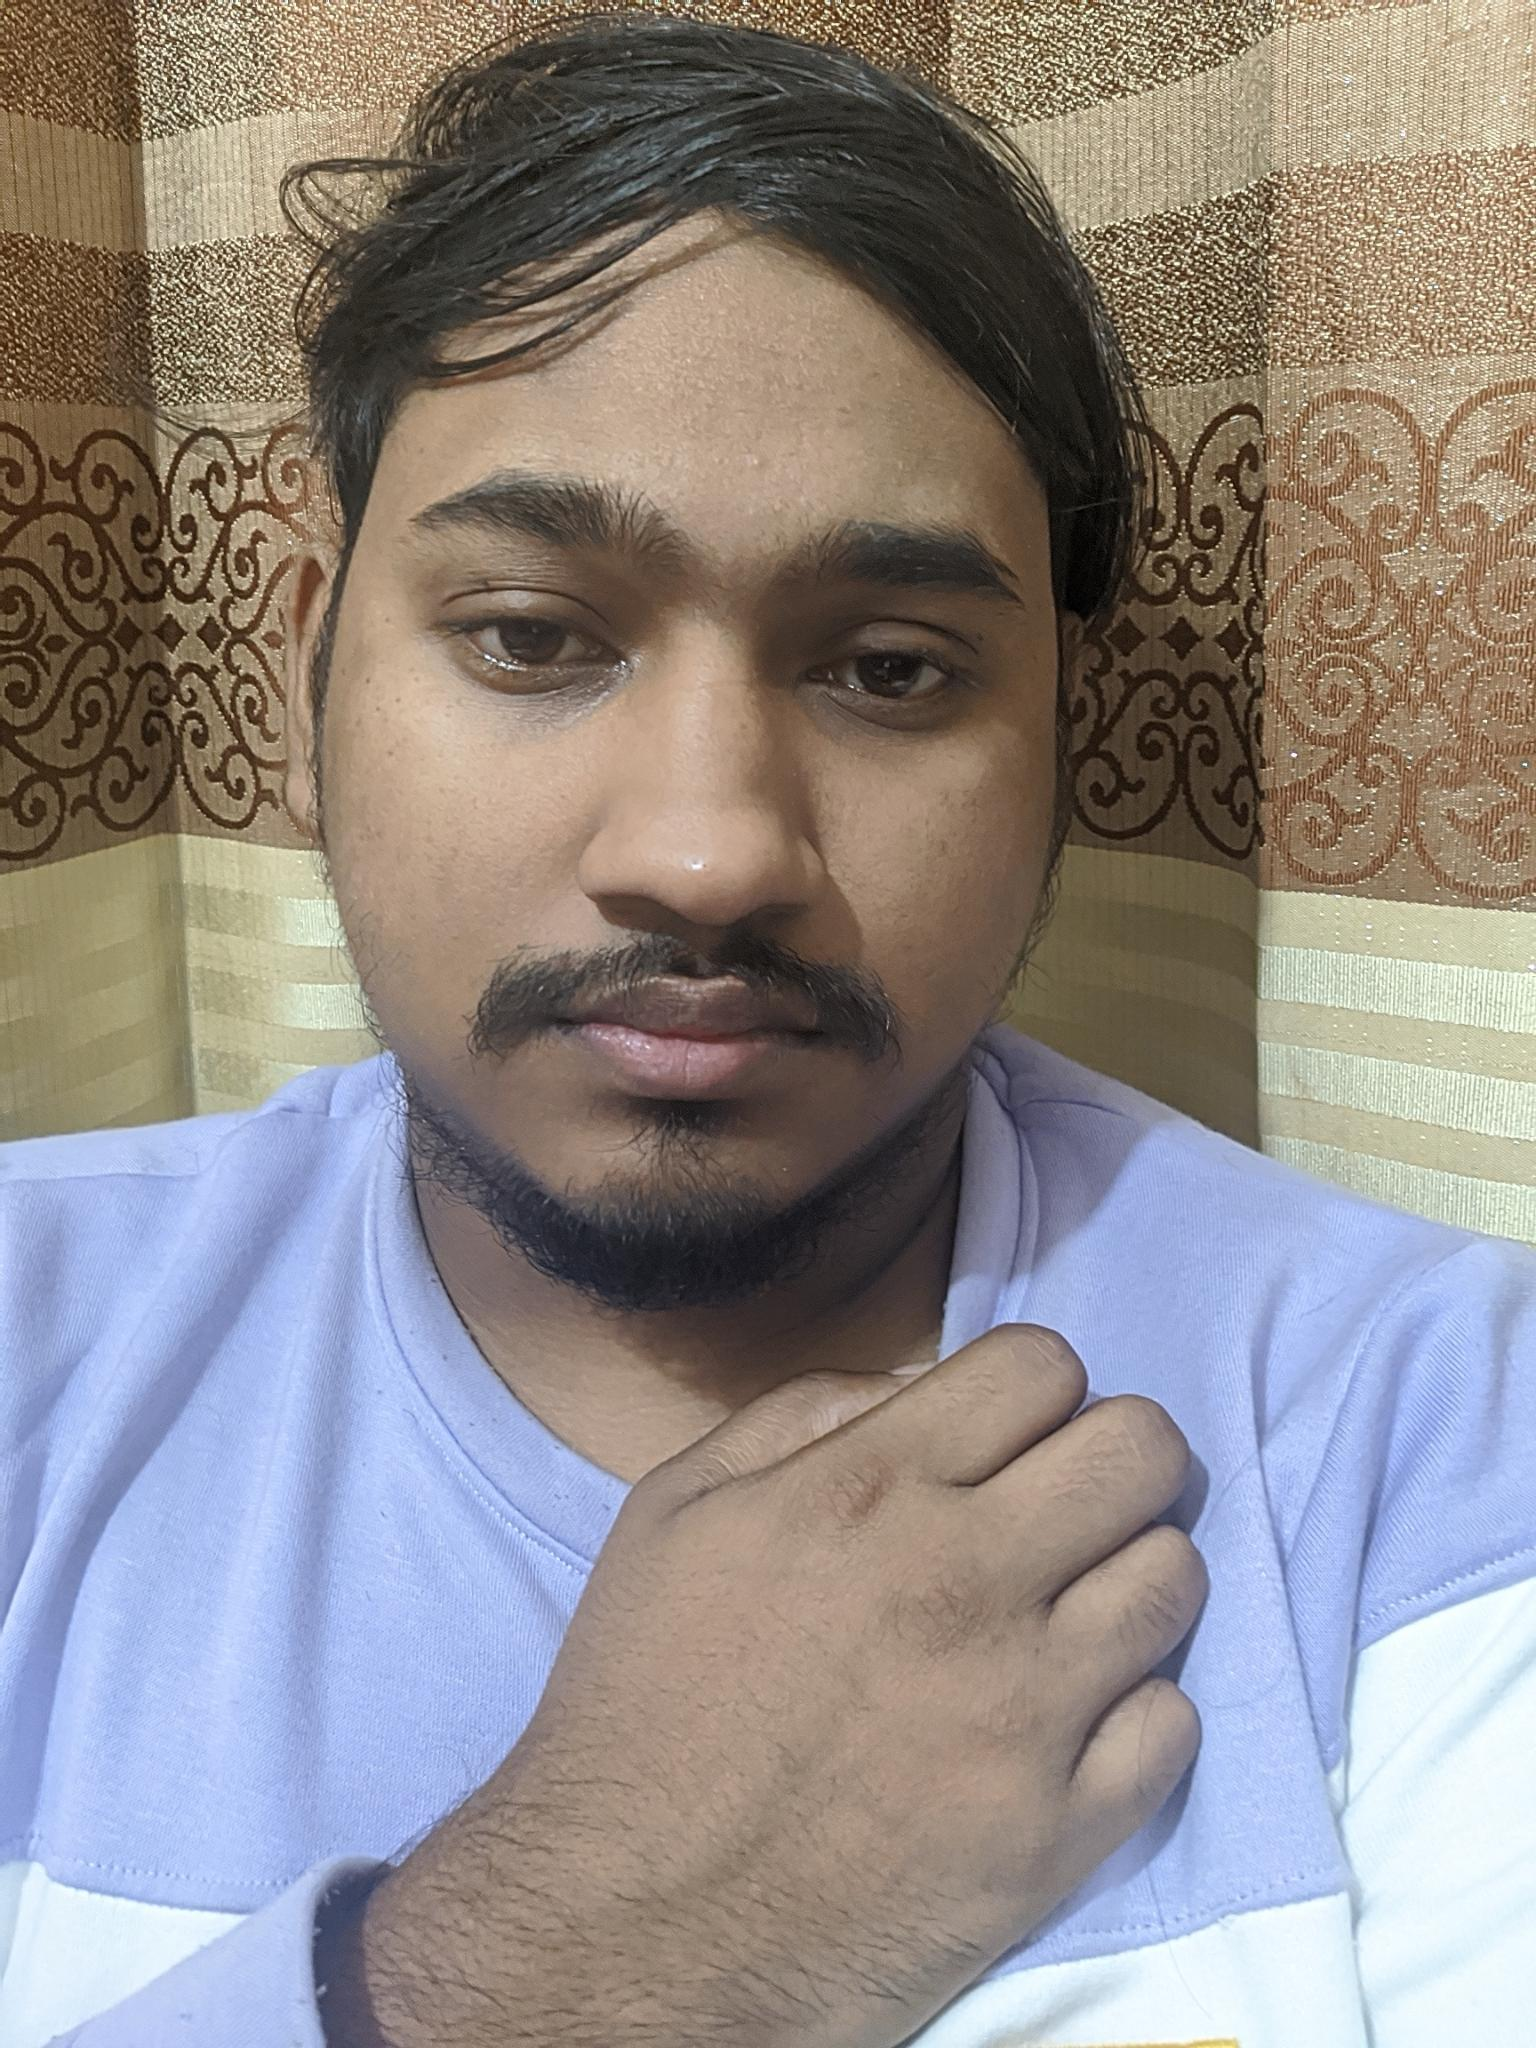Neutral: (316, 402, 1063, 1251)
